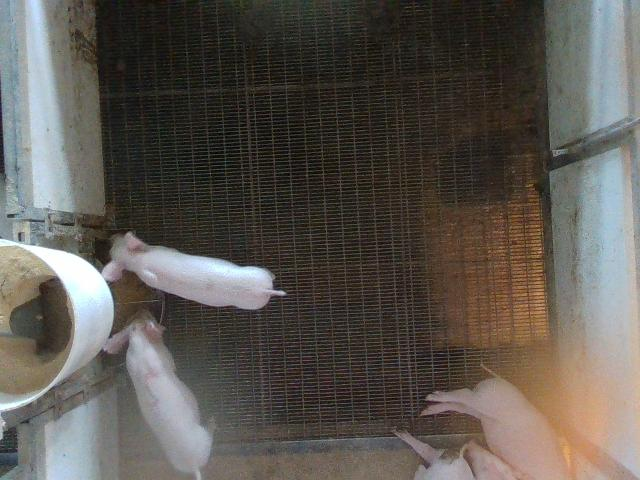pig-5: (104, 310, 211, 478)
